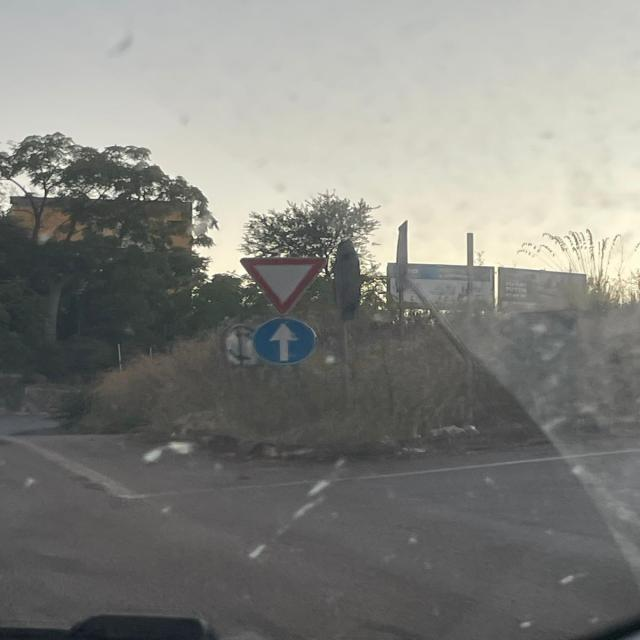prio_give_way: (242, 255, 329, 315)
